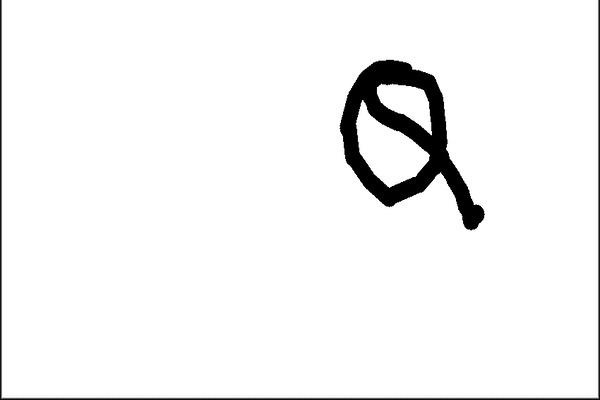Q: (325, 56, 480, 235)
